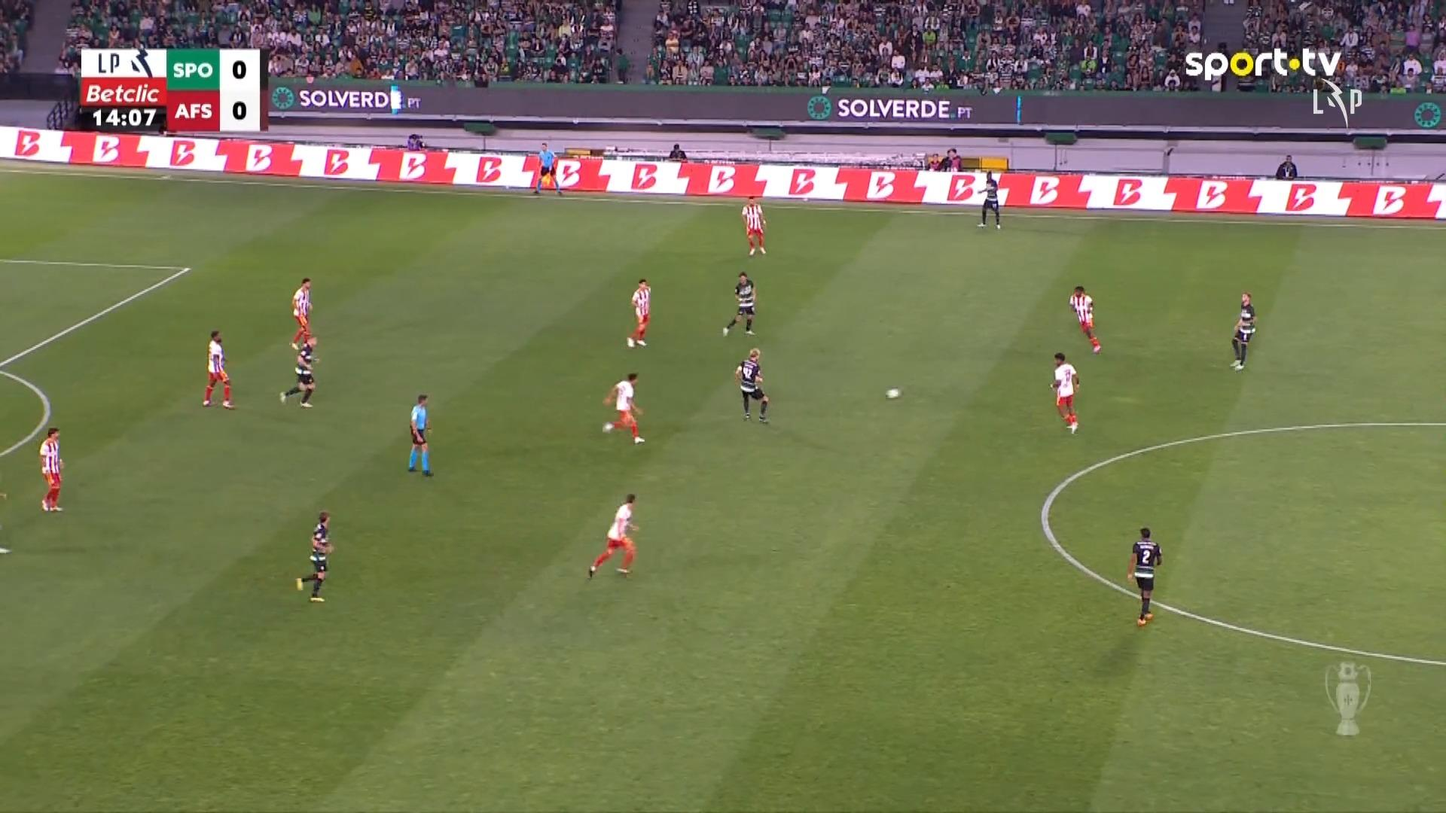ball: (886, 388, 901, 399), (630, 406, 642, 416), (1066, 415, 1076, 424)
player: (587, 493, 640, 579), (294, 510, 334, 602), (1126, 526, 1162, 626), (601, 372, 645, 444), (278, 335, 319, 408), (734, 348, 770, 423), (202, 329, 234, 408), (1050, 352, 1080, 434), (721, 271, 757, 336), (38, 427, 65, 512), (1229, 291, 1257, 370), (1069, 285, 1101, 354), (290, 276, 314, 349), (740, 194, 767, 256), (626, 279, 650, 348), (976, 174, 1002, 229)
referee: (407, 393, 433, 476), (532, 142, 564, 196)
